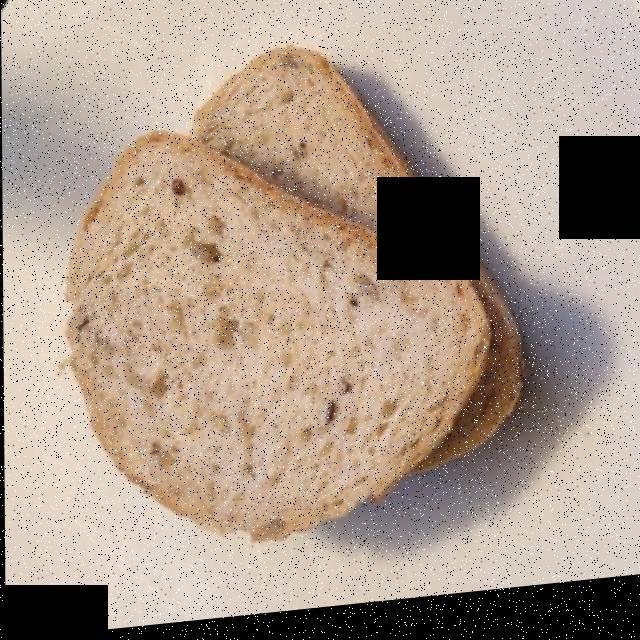bread: (69, 68, 514, 537)
